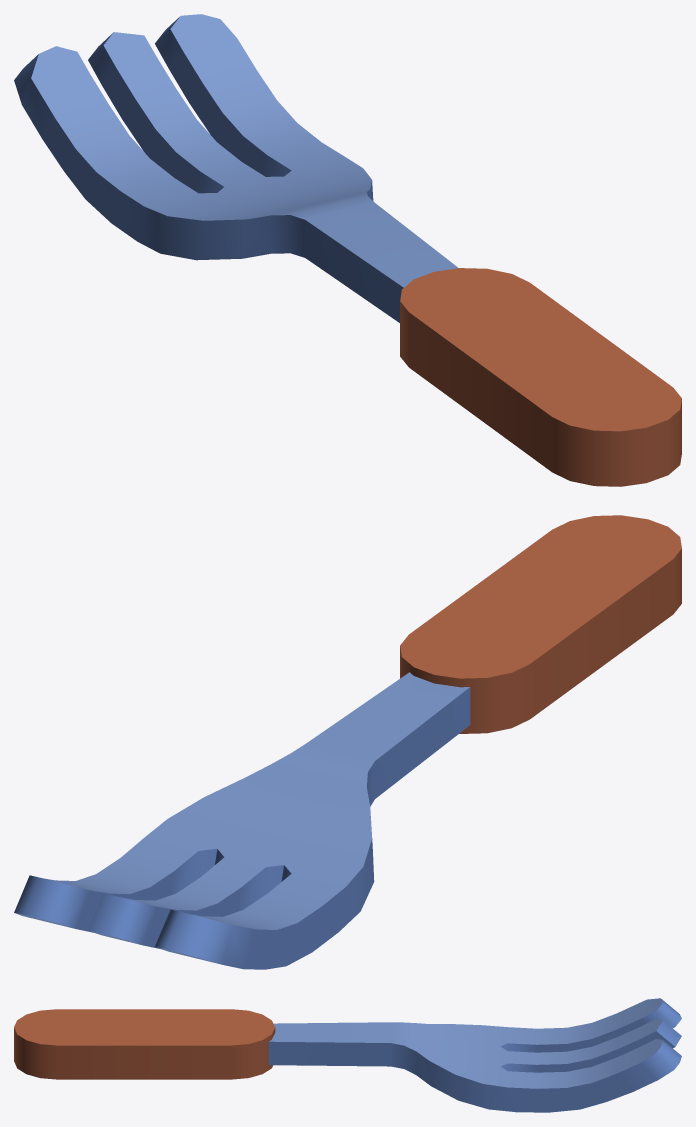
Rendered from Fork A.fbx.
The picture shows the model from 3 angles, top to bottom: view 1: azimuth 30°, elevation 25°; view 2: azimuth 150°, elevation 25°; view 3: azimuth 270°, elevation 25°; orthographic projection. The views are drawn at different scales.
Visible parts, largest first — view 1: Fork A; view 2: Fork A; view 3: Fork A.
Boxes of the visible parts, x1=… form: Fork A: x1=14, y1=14, x2=681, y2=486; Fork A: x1=14, y1=515, x2=681, y2=969; Fork A: x1=14, y1=998, x2=681, y2=1112.
Bounding box in the file's own units: 0.1421 × 0.067 × 0.6644.
